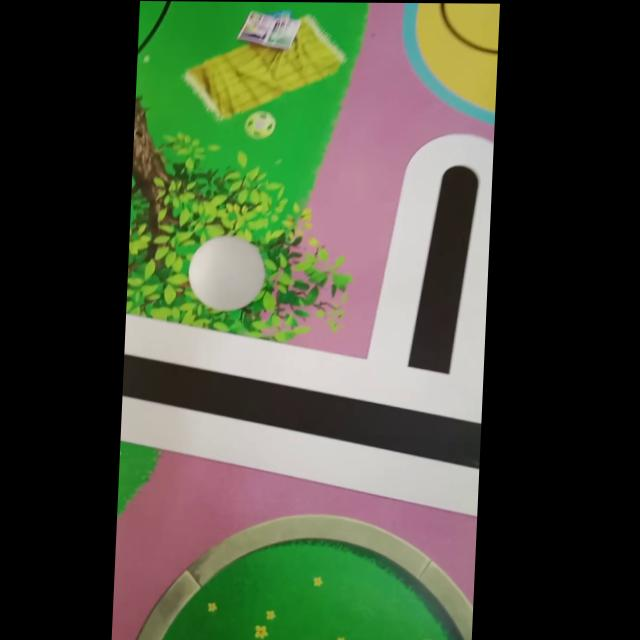white ball: (186, 233, 268, 312)
